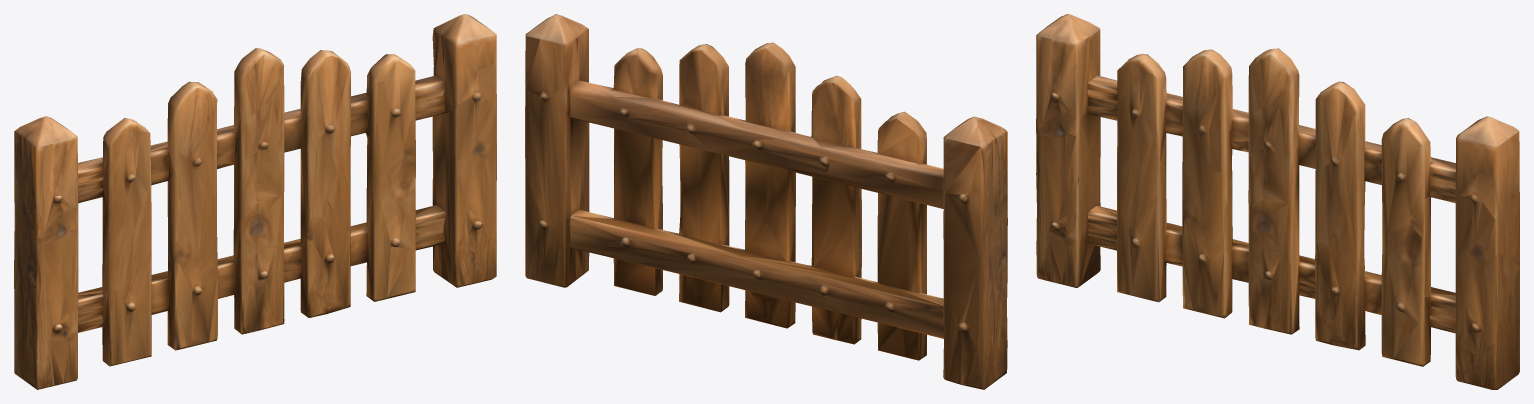
File: fence.glb
3 renders of one model, left to right at view 1: azimuth 30°, elevation 25°; view 2: azimuth 150°, elevation 25°; view 3: azimuth 330°, elevation 25°, orthographic.
Visible parts, largest first — view 1: tripo_node_dc25c7df; view 2: tripo_node_dc25c7df; view 3: tripo_node_dc25c7df.
Part boxes in pixels (x1=…): tripo_node_dc25c7df: x1=14, y1=14, x2=496, y2=389; tripo_node_dc25c7df: x1=525, y1=14, x2=1007, y2=389; tripo_node_dc25c7df: x1=1036, y1=14, x2=1519, y2=389.
Size of the model in its own units: 1.03 by 0.6006 by 0.1131.
1 material, 1 textured.
